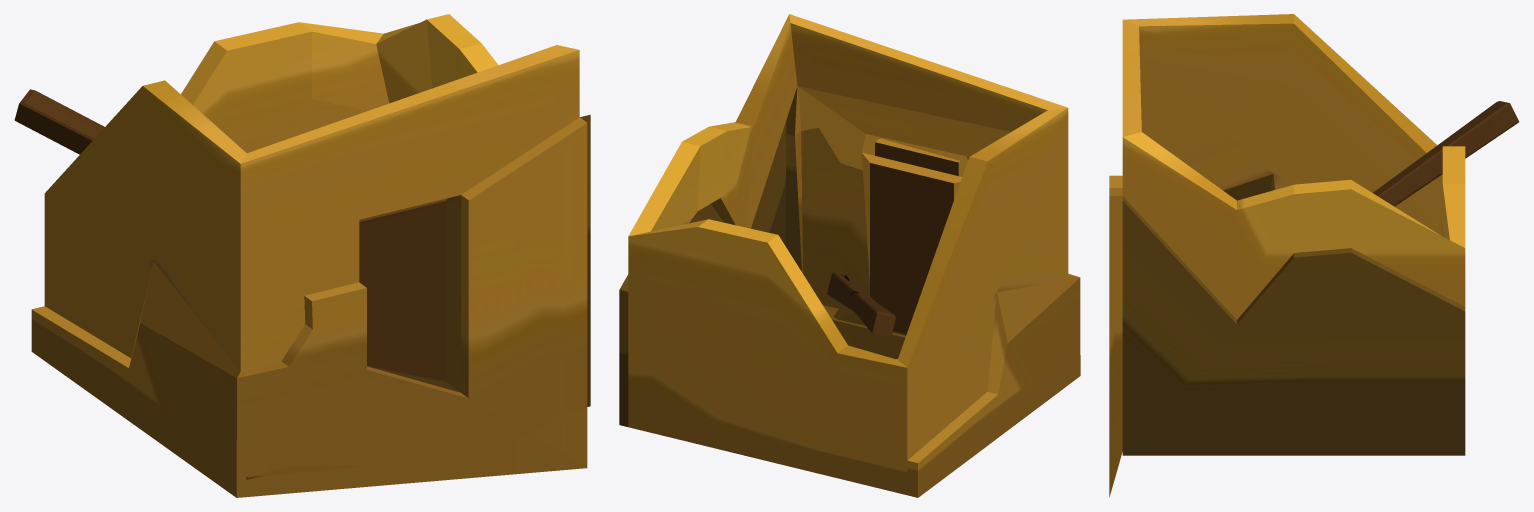
File: RuinaCasa2.glb
The picture shows the model from 3 angles, left to right: view 1: azimuth 30°, elevation 25°; view 2: azimuth 150°, elevation 25°; view 3: azimuth 270°, elevation 25°; orthographic projection. The views are drawn at different scales.
Visible parts, largest first — view 1: RuinaCasa2; view 2: RuinaCasa2; view 3: RuinaCasa2.
Boxes of the visible parts, box(x1,y1,x2,y2) form: RuinaCasa2: box(14, 14, 590, 497); RuinaCasa2: box(619, 14, 1080, 497); RuinaCasa2: box(1109, 14, 1519, 497).
Size of the model in its own units: 1.94 by 2.11 by 2.17.
Materials: 1 (1 with a texture image).
